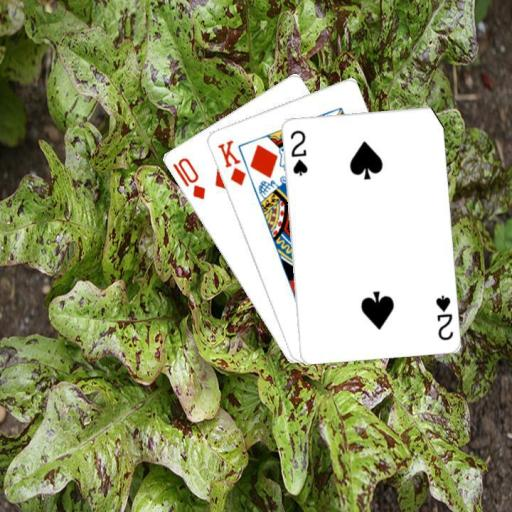10D: (169, 155, 207, 202)
2S: (433, 291, 455, 342), (287, 127, 309, 177)
KD: (214, 137, 248, 188)
